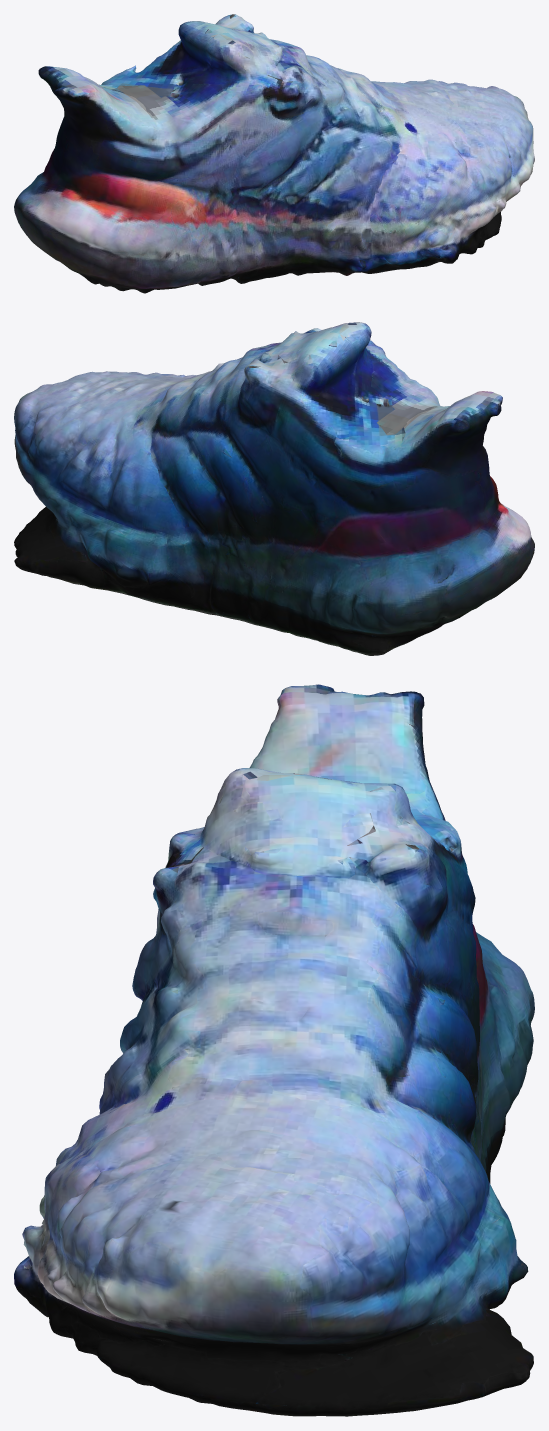
The model's file is 3dpea.gltf.
3 views of the same model, one above another, from view 1: azimuth 30°, elevation 25°; view 2: azimuth 150°, elevation 25°; view 3: azimuth 270°, elevation 25° (orthographic). The views are drawn at different scales.
Visible parts, largest first — view 1: Mesh1; view 2: Mesh1; view 3: Mesh1.
Part boxes in pixels (x1=…): Mesh1: x1=14, y1=14, x2=534, y2=293; Mesh1: x1=14, y1=322, x2=534, y2=655; Mesh1: x1=14, y1=684, x2=534, y2=1416.
Bounding box in the file's own units: 1.2 × 0.5961 × 0.6283.
1 material, 1 textured.
